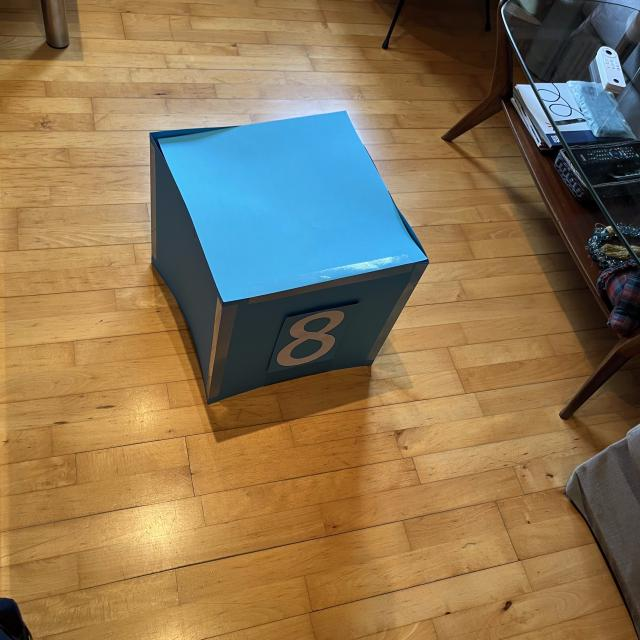box: (146, 108, 430, 405)
